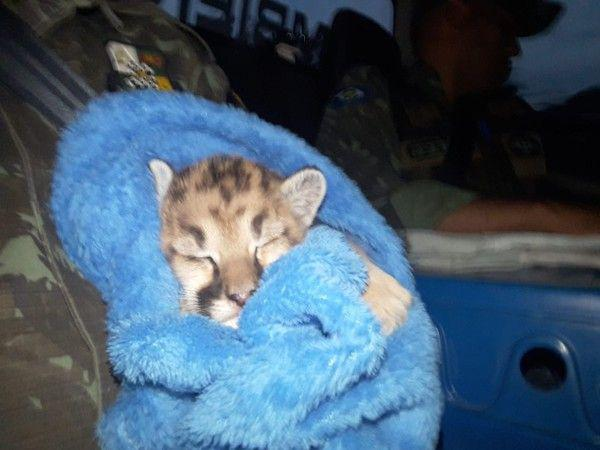OncaParda: (141, 149, 421, 406)
